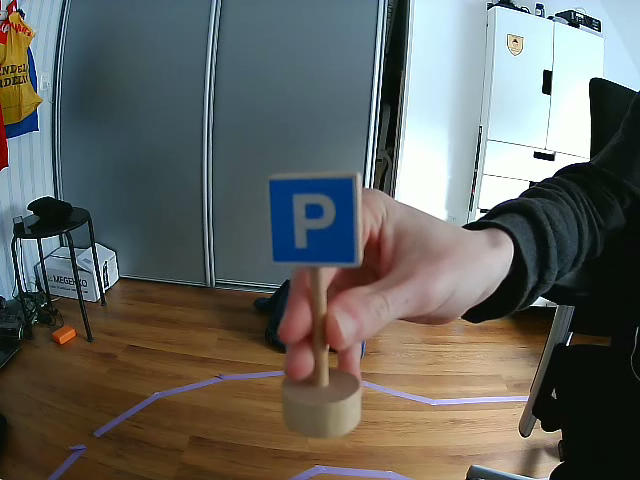parkeerbord: (272, 171, 360, 266)
